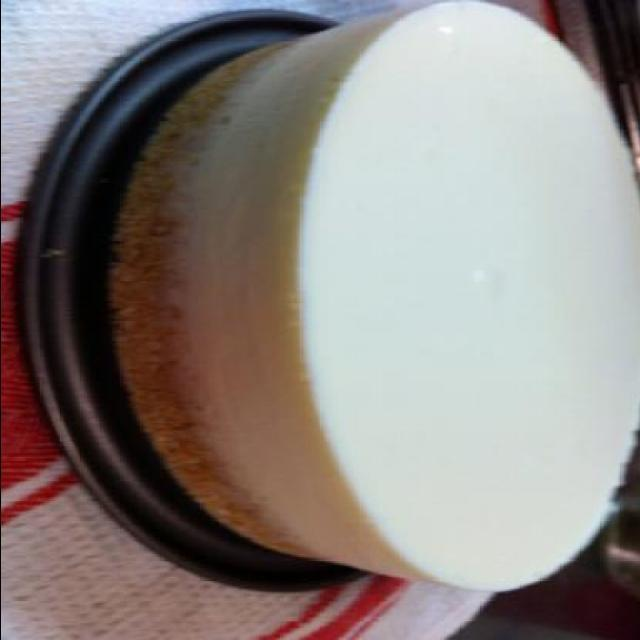Rare cheese cake: (71, 4, 637, 606)
